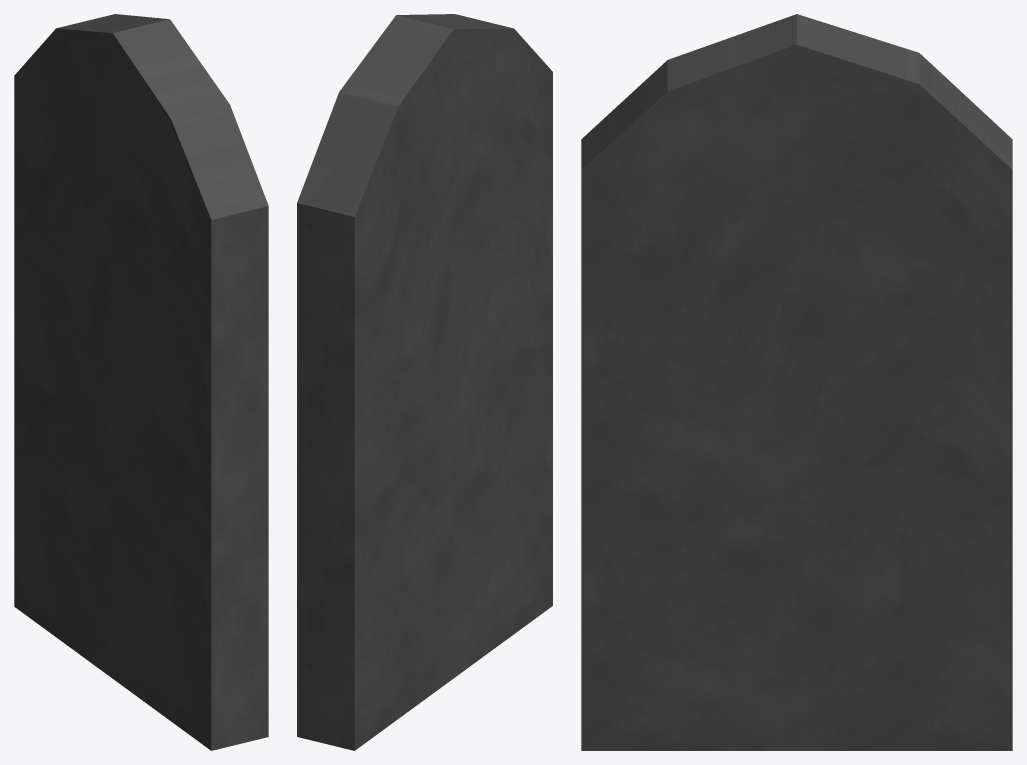
Rendered from Door.fbx.
3 renders of one model, left to right at view 1: azimuth 30°, elevation 25°; view 2: azimuth 150°, elevation 25°; view 3: azimuth 270°, elevation 25°, orthographic. The views are drawn at different scales.
Visible parts, largest first — view 1: Cube; view 2: Cube; view 3: Cube.
Boxes of the visible parts, left/top/right/bottom form: Cube: left=14, top=14, right=268, bottom=750; Cube: left=297, top=14, right=552, bottom=750; Cube: left=581, top=14, right=1012, bottom=750.
Size of the model in its own units: 37.74 by 395 by 218.
